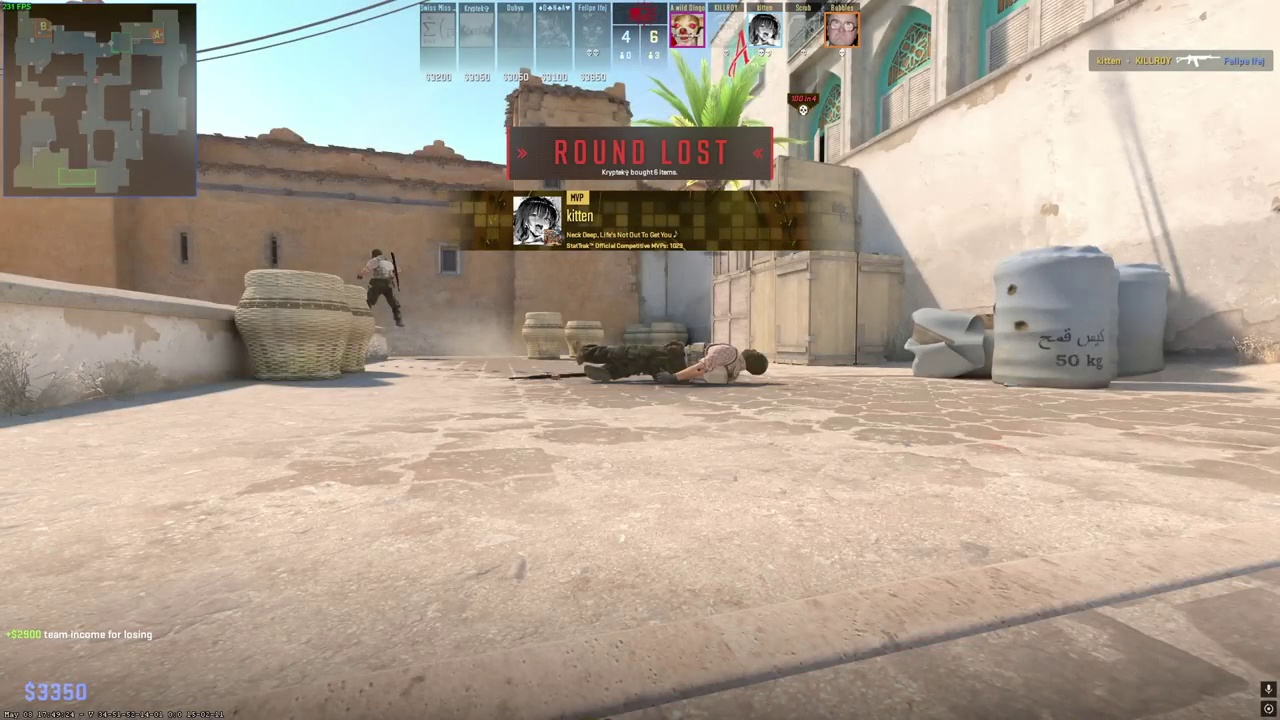Terrorist: (364, 248, 400, 327)
